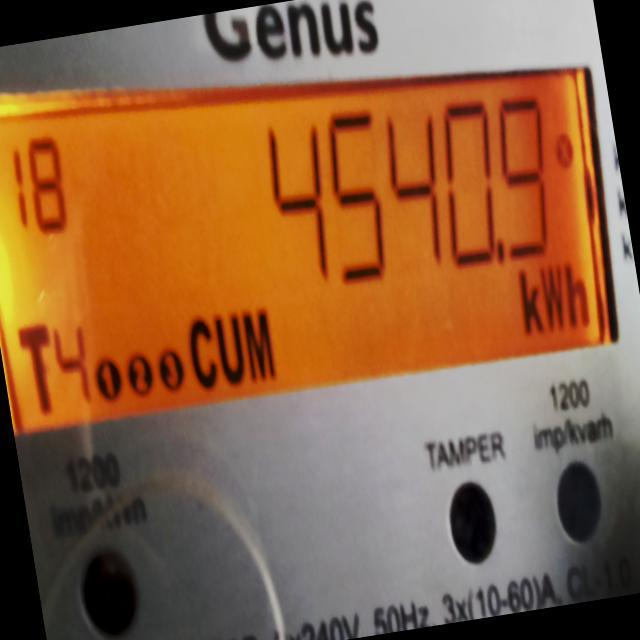LCD: (0, 83, 630, 414)
